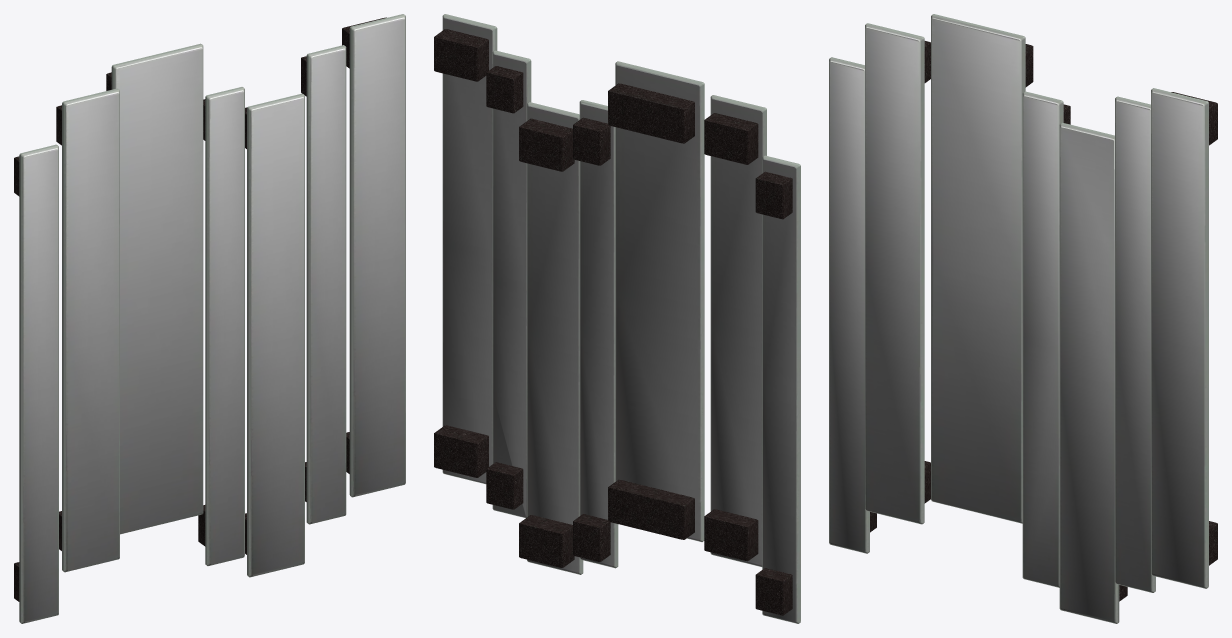
File: B07B8NBQWM.glb
3 views of the same model, side by side, from view 1: azimuth 30°, elevation 25°; view 2: azimuth 150°, elevation 25°; view 3: azimuth 330°, elevation 25° (orthographic). The views are drawn at different scales.
Visible parts, largest first — view 1: RootNode; view 2: RootNode; view 3: RootNode.
Boxes of the visible parts, box(x1,y1,x2,y2) form: RootNode: box(14, 14, 405, 623); RootNode: box(434, 14, 800, 623); RootNode: box(829, 14, 1217, 623).
Size of the model in its own units: 0.4451 by 0.6112 by 0.0582.
Materials: 1 (1 with a texture image).
